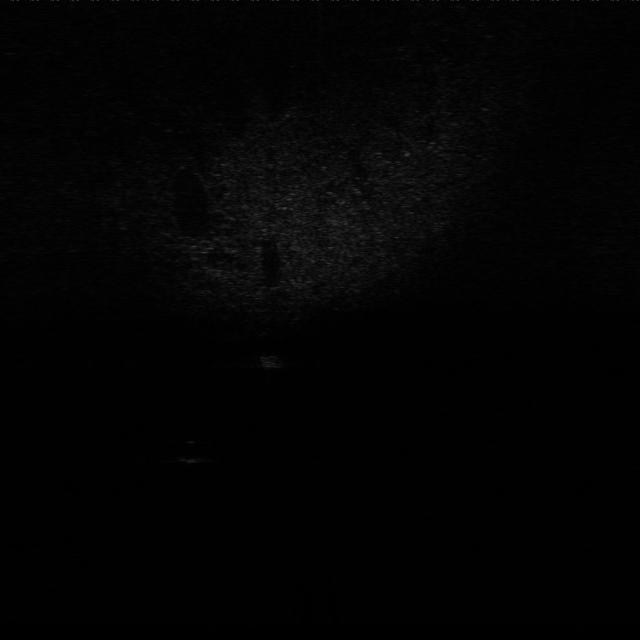ball: (174, 433, 208, 465)
cube: (254, 349, 290, 373)
